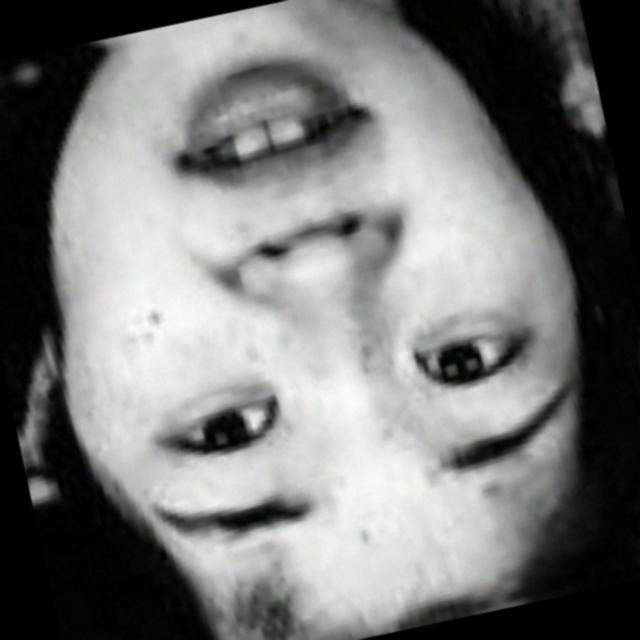fear: (33, 0, 599, 640)
